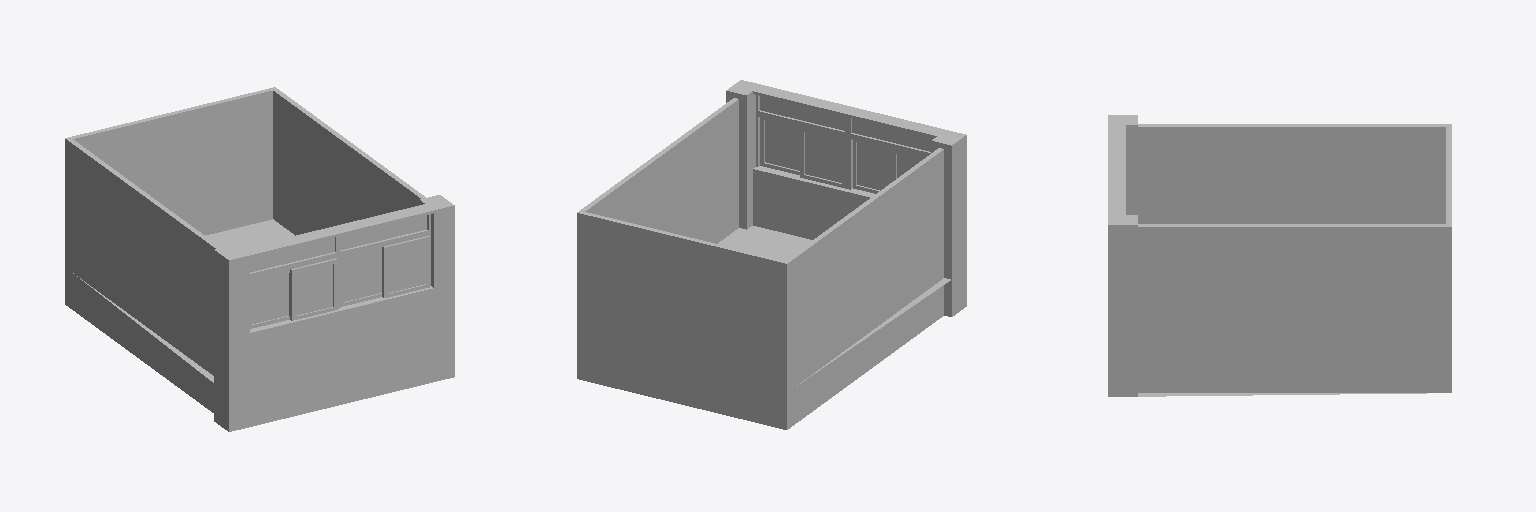
The picture shows the model from 3 angles: view 1: azimuth 30°, elevation 25°; view 2: azimuth 150°, elevation 25°; view 3: azimuth 270°, elevation 25°; orthographic projection.
Visible parts, largest first — view 1: Mesh24 Group13 Model, Mesh4 Group4 Model, Mesh25 Group14 Model, Mesh3 Group3 Model, Mesh1 Group1 Model, Mesh2 Group2 Model, Mesh5 Group5 Model, Mesh19 Glazing5 Window_Sliding_Casement_4_2 Window_Sliding_2_2 G, Mesh22 Glazing7 Window_Sliding_Casement_4_3 Window_Sliding_2_2 G, Mesh15 Glazing3 Window_Sliding_Casement_4_1 Window_Sliding_2_1 G, Mesh12 Glazing1 Window_Sliding_Casement_4 Window_Sliding_2_1 Gro, Mesh9 Group12 Group10 Group6 Model (+3 smaller); view 2: Mesh25 Group14 Model, Mesh4 Group4 Model, Mesh1 Group1 Model, Mesh3 Group3 Model, Mesh24 Group13 Model, Mesh2 Group2 Model, Mesh5 Group5 Model, Mesh18 Glazing4 Window_Sliding_Casement_4_2 Window_Sliding_2_2 G, Mesh21 Glazing6 Window_Sliding_Casement_4_3 Window_Sliding_2_2 G, Mesh14 Glazing2 Window_Sliding_Casement_4_1 Window_Sliding_2_1 G, Mesh9 Group12 Group10 Group6 Model, Mesh7 Group9 Group7 Group6 Model (+2 smaller); view 3: Mesh3 Group3 Model, Mesh4 Group4 Model, Mesh1 Group1 Model, Mesh24 Group13 Model, Mesh5 Group5 Model, Mesh25 Group14 Model, Mesh2 Group2 Model.
Boxes of the visible parts, x1,y1,x2,y2 form: Mesh24 Group13 Model: [220, 200, 454, 431]; Mesh4 Group4 Model: [68, 139, 220, 375]; Mesh25 Group14 Model: [65, 87, 276, 268]; Mesh3 Group3 Model: [273, 89, 425, 235]; Mesh1 Group1 Model: [65, 219, 294, 424]; Mesh2 Group2 Model: [214, 245, 249, 394]; Mesh5 Group5 Model: [419, 195, 454, 343]; Mesh19 Glazing5 Window_Sliding_Casement_4_2 Window_Sliding_2_2 G: [344, 250, 381, 301]; Mesh22 Glazing7 Window_Sliding_Casement_4_3 Window_Sliding_2_2 G: [388, 241, 425, 292]; Mesh15 Glazing3 Window_Sliding_Casement_4_1 Window_Sliding_2_1 G: [296, 264, 332, 315]; Mesh12 Glazing1 Window_Sliding_Casement_4 Window_Sliding_2_1 Gro: [252, 273, 288, 323]; Mesh9 Group12 Group10 Group6 Model: [341, 215, 426, 249]; Mesh25 Group14 Model: [577, 211, 789, 392]; Mesh4 Group4 Model: [785, 148, 943, 389]; Mesh1 Group1 Model: [577, 226, 957, 429]; Mesh3 Group3 Model: [580, 98, 738, 243]; Mesh24 Group13 Model: [733, 80, 966, 312]; Mesh2 Group2 Model: [931, 130, 966, 279]; Mesh5 Group5 Model: [726, 80, 760, 229]; Mesh18 Glazing4 Window_Sliding_Casement_4_2 Window_Sliding_2_2 G: [805, 132, 841, 182]; Mesh21 Glazing6 Window_Sliding_Casement_4_3 Window_Sliding_2_2 G: [765, 120, 799, 170]; Mesh14 Glazing2 Window_Sliding_Casement_4_1 Window_Sliding_2_1 G: [857, 142, 891, 190]; Mesh9 Group12 Group10 Group6 Model: [760, 96, 844, 130]; Mesh7 Group9 Group7 Group6 Model: [852, 118, 933, 151]; Mesh3 Group3 Model: [1138, 224, 1445, 355]; Mesh4 Group4 Model: [1138, 124, 1445, 223]; Mesh1 Group1 Model: [1126, 356, 1451, 396]; Mesh24 Group13 Model: [1108, 115, 1125, 396]; Mesh5 Group5 Model: [1108, 215, 1137, 358]; Mesh25 Group14 Model: [1446, 124, 1451, 355]; Mesh2 Group2 Model: [1108, 115, 1137, 214].
Size of the model in its own units: 4.4 by 3.2 by 5.8.